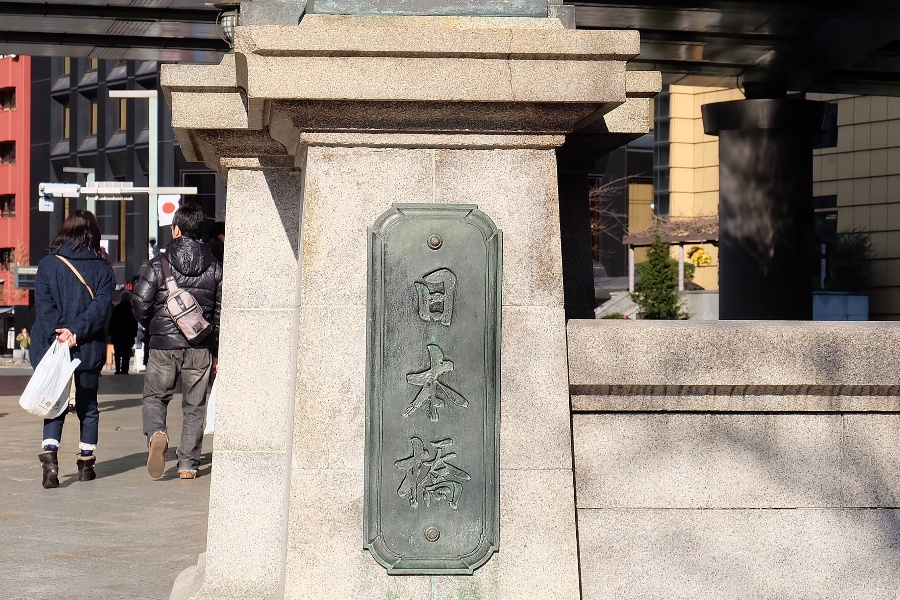text: (417, 266, 432, 516), (433, 266, 448, 516), (449, 266, 464, 516), (465, 266, 472, 516), (415, 266, 416, 516)
